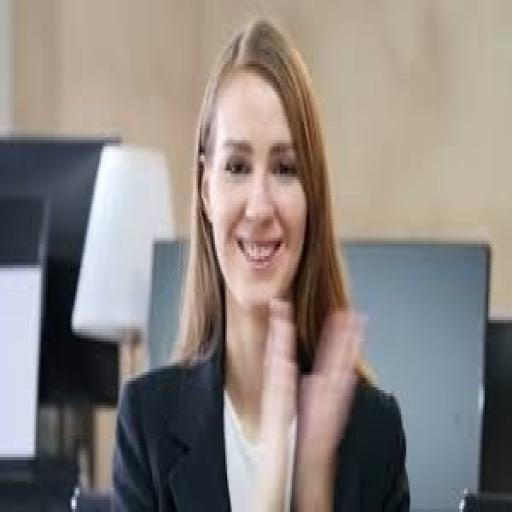clapping: (110, 15, 412, 509)
